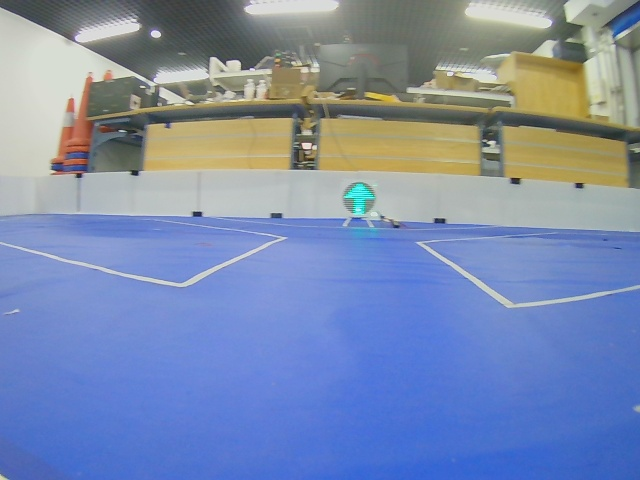straight_green: (343, 182, 376, 216)
